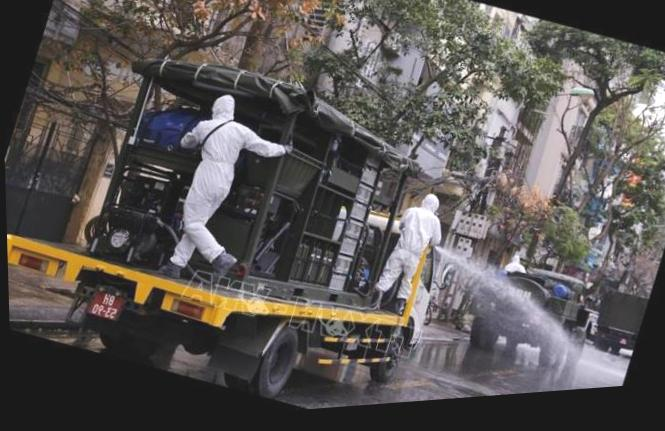License_Plate: (88, 288, 130, 328)
